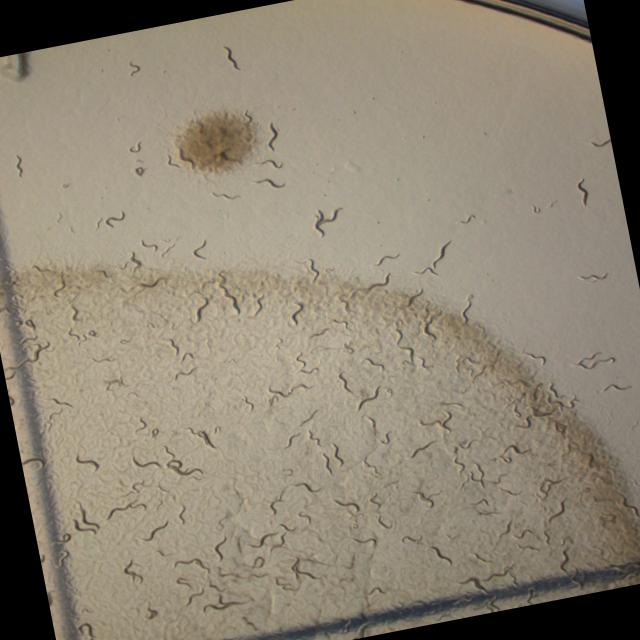filarid: (413, 240, 450, 274), (418, 410, 452, 432), (493, 443, 530, 463), (575, 352, 615, 368), (358, 385, 379, 409), (410, 439, 435, 457), (250, 531, 278, 547), (429, 546, 452, 565), (548, 499, 565, 522), (333, 499, 360, 512), (576, 177, 588, 205), (460, 294, 472, 322), (372, 253, 399, 265), (174, 366, 197, 380), (194, 298, 208, 321), (578, 272, 607, 283), (291, 481, 320, 492), (224, 46, 238, 68), (267, 122, 278, 150), (524, 352, 546, 365), (252, 178, 283, 187), (193, 239, 206, 259), (256, 158, 282, 168), (338, 372, 351, 392), (601, 383, 631, 391), (333, 442, 343, 465), (353, 537, 377, 545), (212, 192, 237, 199), (456, 214, 475, 223), (129, 62, 140, 75)
